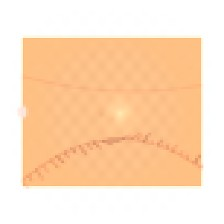pinguecula_lesion: (155, 98, 185, 123)
